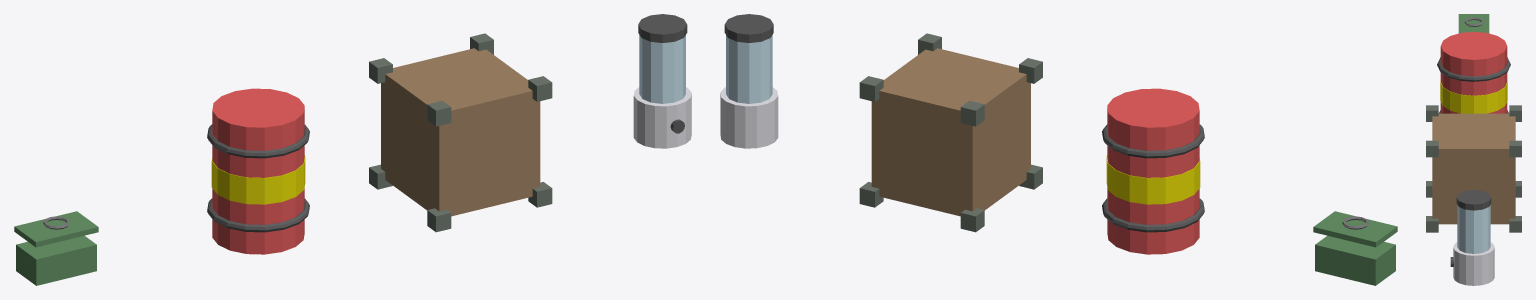
Rendered from GameProps.fbx.
3 renders of one model, left to right at view 1: azimuth 30°, elevation 25°; view 2: azimuth 150°, elevation 25°; view 3: azimuth 270°, elevation 25°, orthographic. The views are drawn at different scales.
Parts seen in each view (by area): view 1: Prop_Supply_Crate, Prop_Explosive_Barrel, Prop_Kitchen_Blender, Prop_Ammo_Box; view 2: Prop_Supply_Crate, Prop_Explosive_Barrel, Prop_Kitchen_Blender, Prop_Ammo_Box; view 3: Prop_Supply_Crate, Prop_Explosive_Barrel, Prop_Kitchen_Blender, Prop_Ammo_Box.
Boxes of the visible parts, <box> form: Prop_Supply_Crate: <box>369,33,552,232</box>; Prop_Explosive_Barrel: <box>207,88,309,254</box>; Prop_Kitchen_Blender: <box>633,14,691,148</box>; Prop_Ammo_Box: <box>14,211,98,285</box>; Prop_Supply_Crate: <box>859,33,1042,232</box>; Prop_Explosive_Barrel: <box>1102,88,1204,254</box>; Prop_Kitchen_Blender: <box>720,14,778,148</box>; Prop_Ammo_Box: <box>1313,211,1397,285</box>; Prop_Supply_Crate: <box>1426,105,1521,232</box>; Prop_Explosive_Barrel: <box>1437,31,1510,113</box>; Prop_Kitchen_Blender: <box>1450,190,1494,285</box>; Prop_Ammo_Box: <box>1458,14,1489,33</box>.
Bounding box in the file's own units: 656 × 128 × 115.
